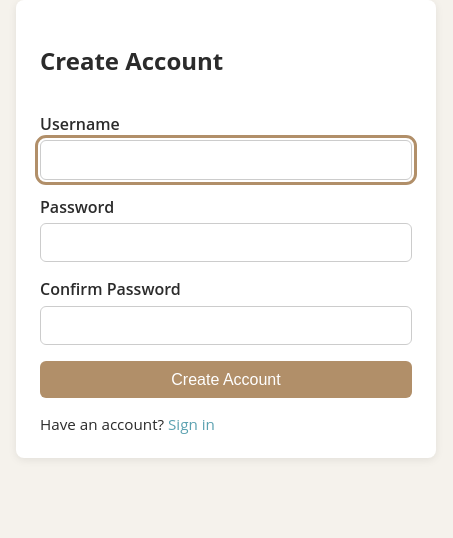
Scenario: Register client-side validation › blocks submission when the passwords do not match
In the field labelled "Username": (226, 160) [40,140,412,180], type "alice"
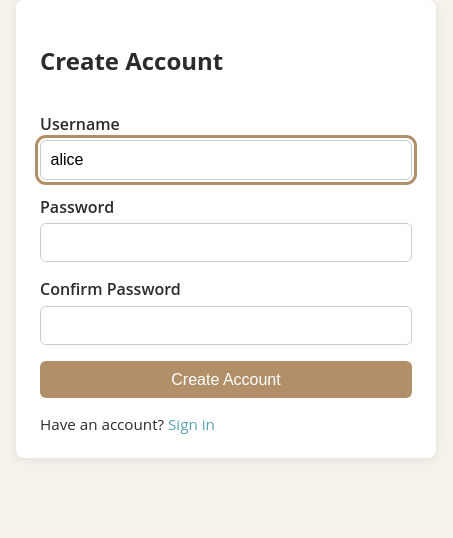
In the password field labelled "Password": (226, 243) [40,223,412,262], type "password123"
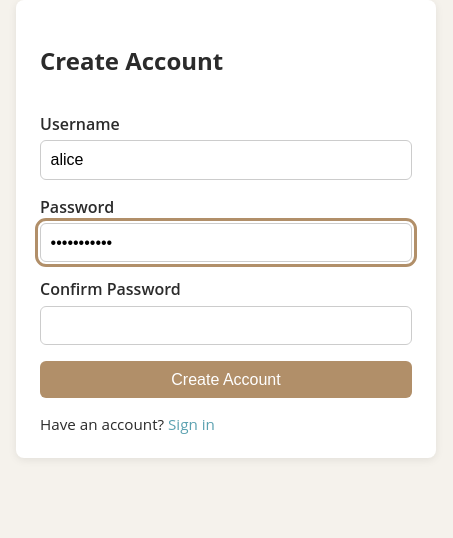
In the password field labelled "Confirm Password": (226, 326) [40,306,412,345], type "different1"
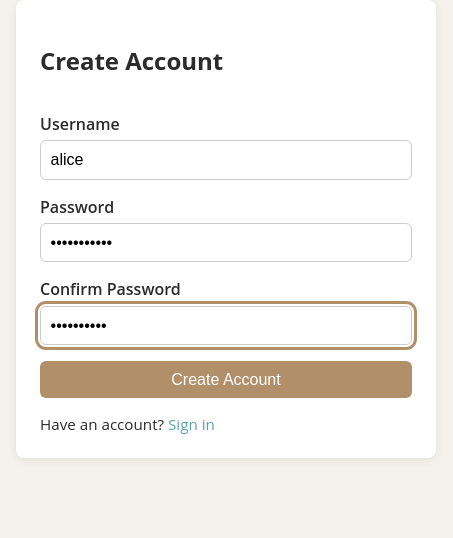
Click the button "Create Account": (226, 380) [40,361,412,398]
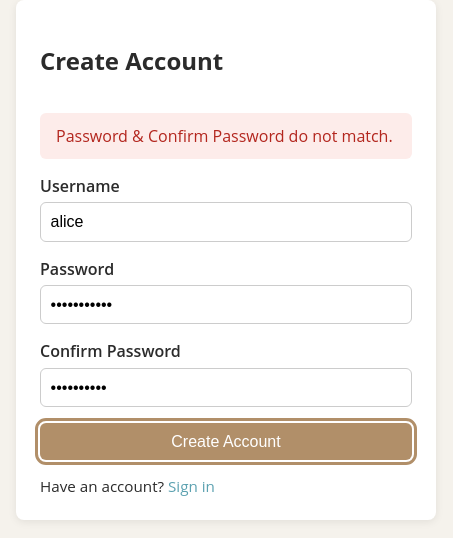
Result: the message shows "do not match" at [56,125,393,147]
